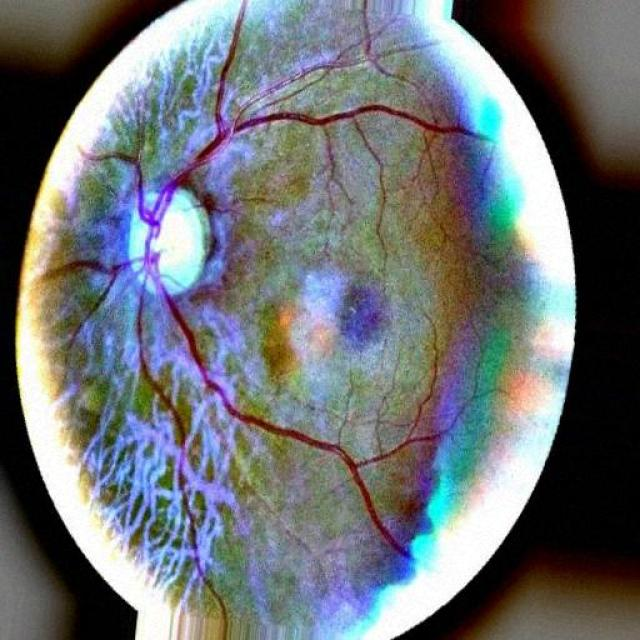Nerves: (48, 0, 476, 584)
Optic Disk: (128, 188, 209, 294)
